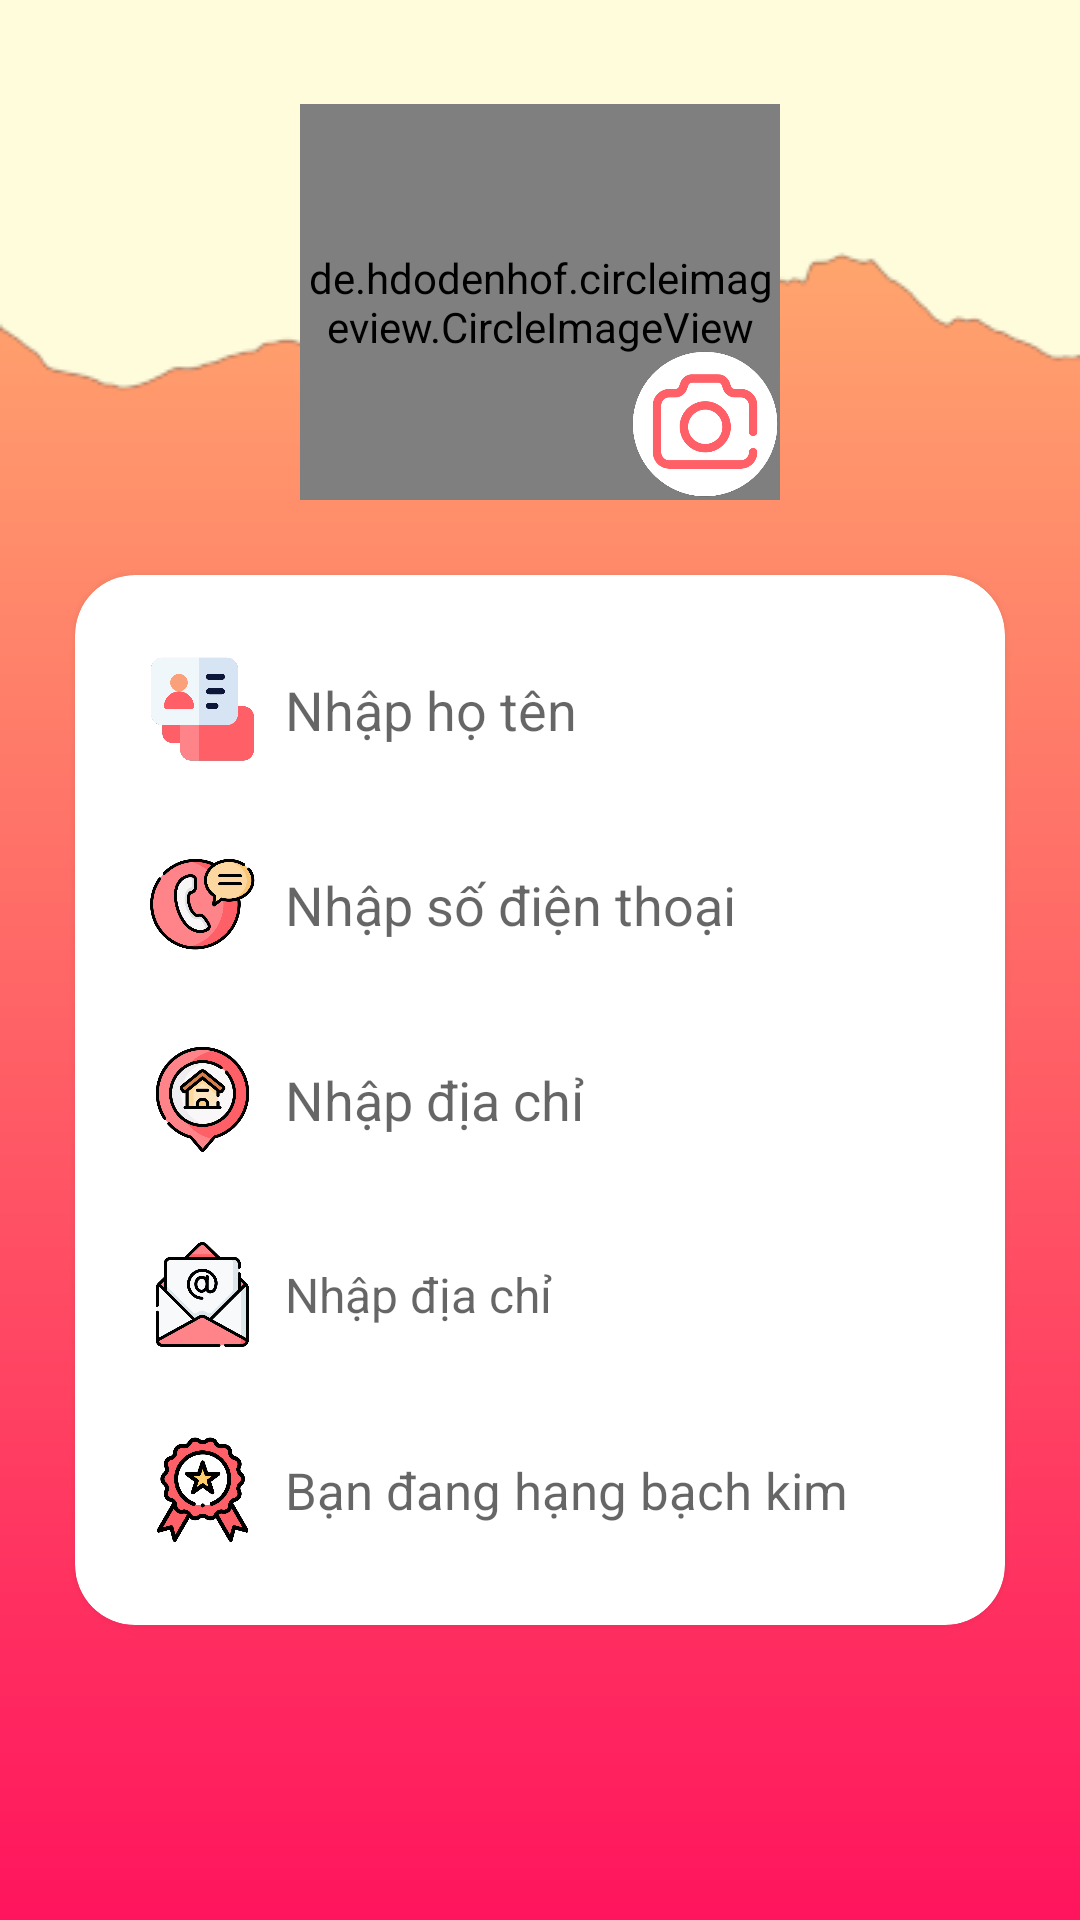

Where icons sit on this 1080w x 1920h app screen, as (x1, y1, x2, y2):
adress: (156, 1047, 249, 1152)
camera: (633, 352, 777, 496)
mail: (156, 1242, 249, 1347)
phone: (150, 859, 255, 950)
rank: (157, 1437, 248, 1542)
user: (151, 658, 254, 761)
